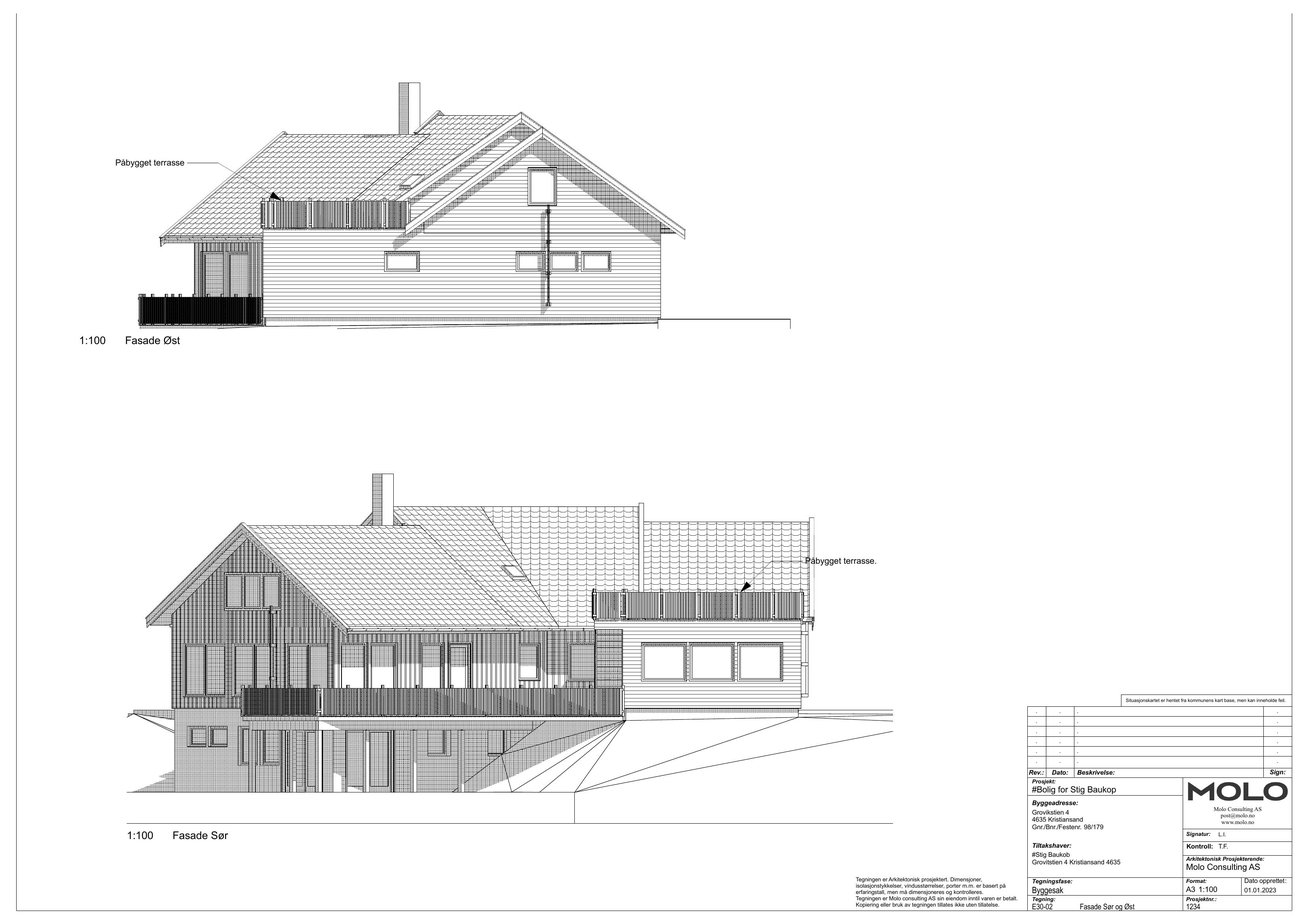fasade: (132, 472, 820, 789), (141, 81, 689, 330)
